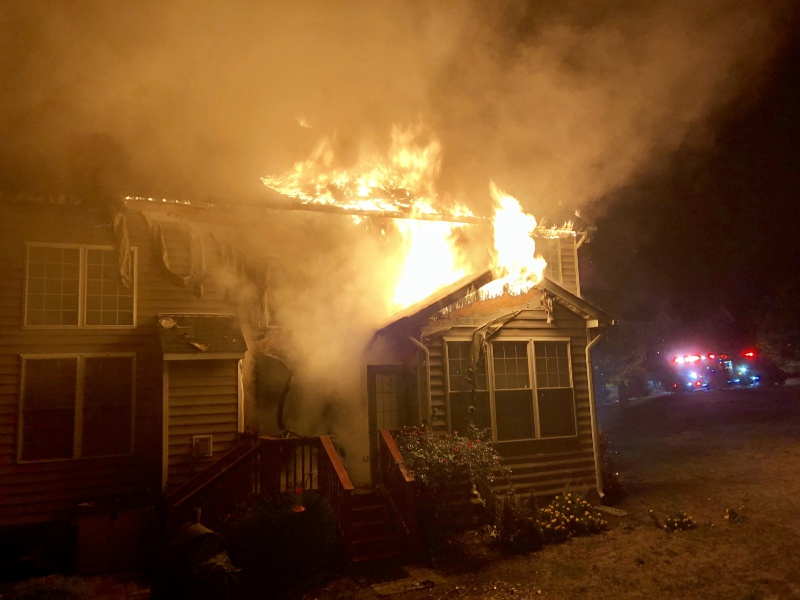fire: (258, 144, 467, 219), (471, 186, 552, 301), (385, 215, 476, 295)
